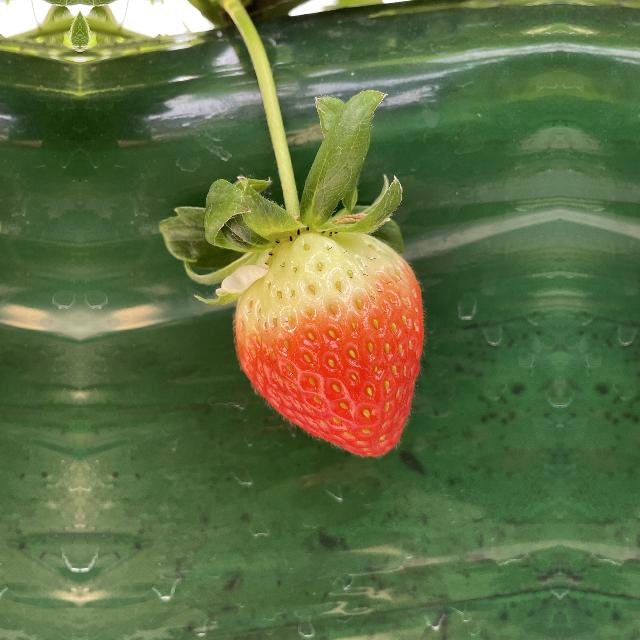Health_100: (230, 236, 440, 467)
